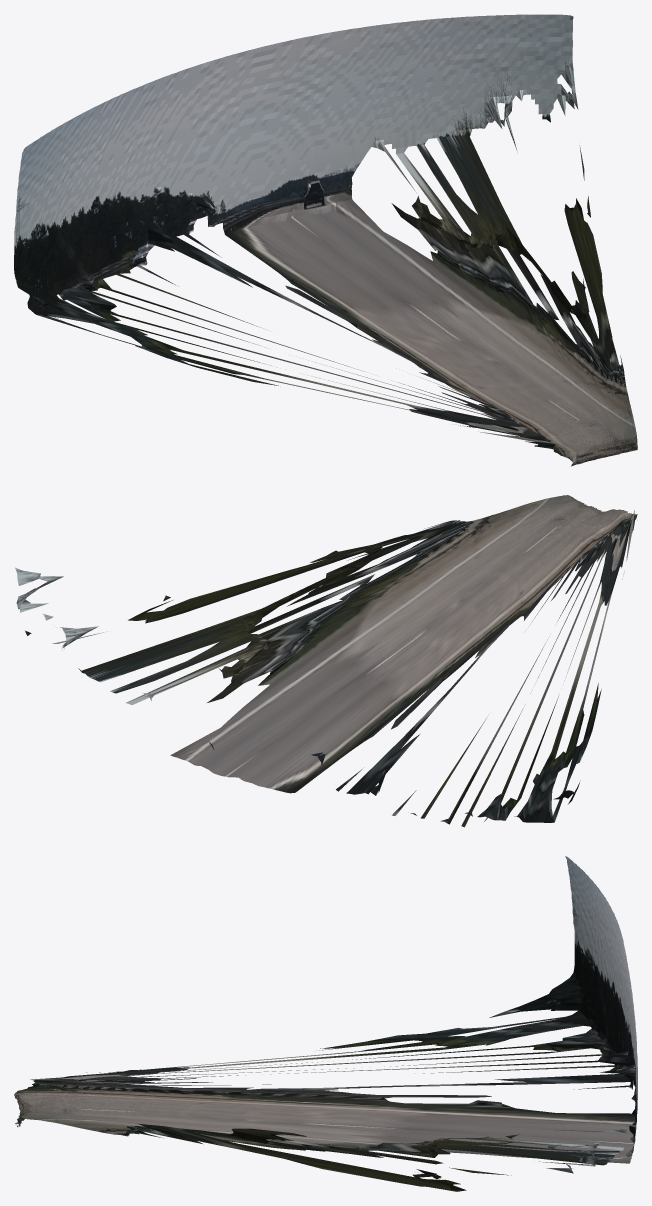
3 views of the same model, one above another, from view 1: azimuth 30°, elevation 25°; view 2: azimuth 150°, elevation 25°; view 3: azimuth 270°, elevation 25° (orthographic). The views are drawn at different scales.
Visible parts, largest first — view 1: defaultobject; view 2: defaultobject; view 3: defaultobject.
Boxes of the visible parts, <box> form: defaultobject: <box>14,14,637,466</box>; defaultobject: <box>15,495,637,827</box>; defaultobject: <box>14,856,637,1191</box>.
Bounding box in the file's own units: 41.03 × 13.46 × 44.4.
Materials: 1 (1 with a texture image).
